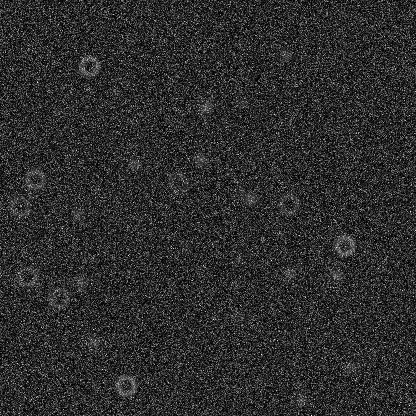Ring: (332, 233, 356, 257), (46, 286, 70, 310), (8, 194, 32, 218), (276, 191, 300, 215), (114, 373, 138, 397), (14, 264, 38, 288), (22, 167, 46, 191), (77, 53, 101, 77), (166, 170, 190, 194)
Spot: (197, 99, 213, 115), (234, 95, 250, 111), (243, 191, 259, 207), (91, 106, 107, 122), (53, 103, 69, 119), (72, 274, 88, 290), (327, 266, 343, 282), (68, 206, 84, 222), (280, 265, 296, 281), (277, 46, 293, 62), (85, 333, 101, 349), (233, 184, 249, 200), (292, 392, 308, 408), (176, 239, 192, 255), (192, 151, 208, 167), (342, 360, 358, 376), (125, 155, 141, 171), (228, 309, 244, 325), (231, 249, 247, 265)
